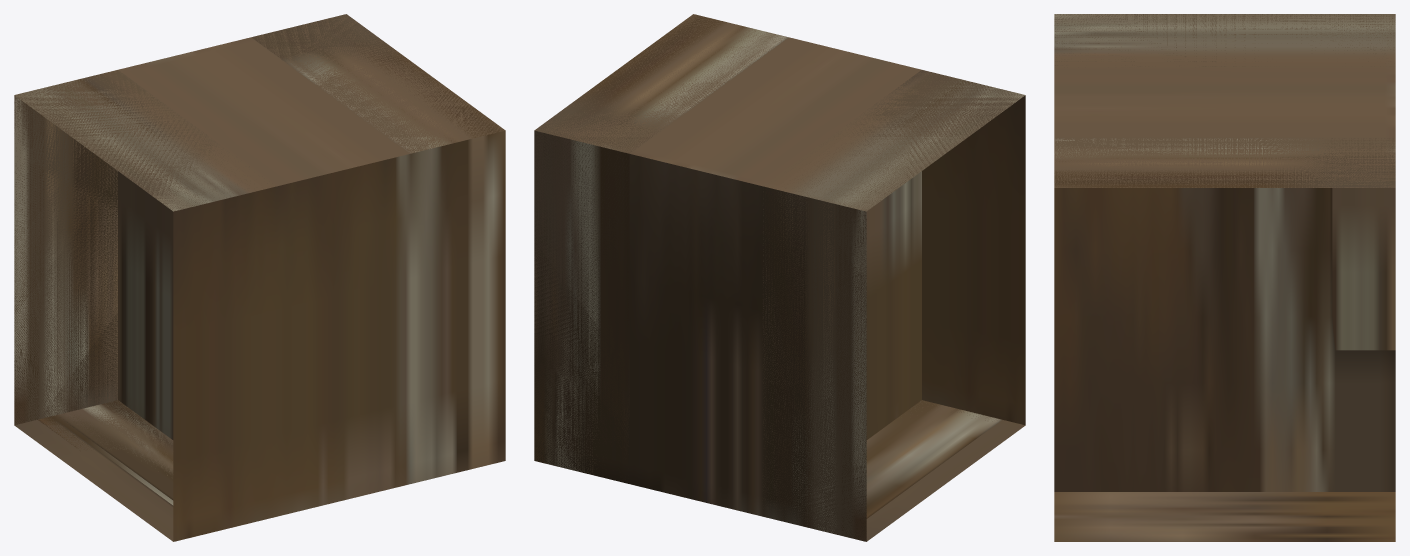
The model's file is section-6.obj.
3 views of the same model, side by side, from view 1: azimuth 30°, elevation 25°; view 2: azimuth 150°, elevation 25°; view 3: azimuth 270°, elevation 25° (orthographic). The views are drawn at different scales.
Bounding box in the file's own units: 1 × 0.95 × 0.83.
